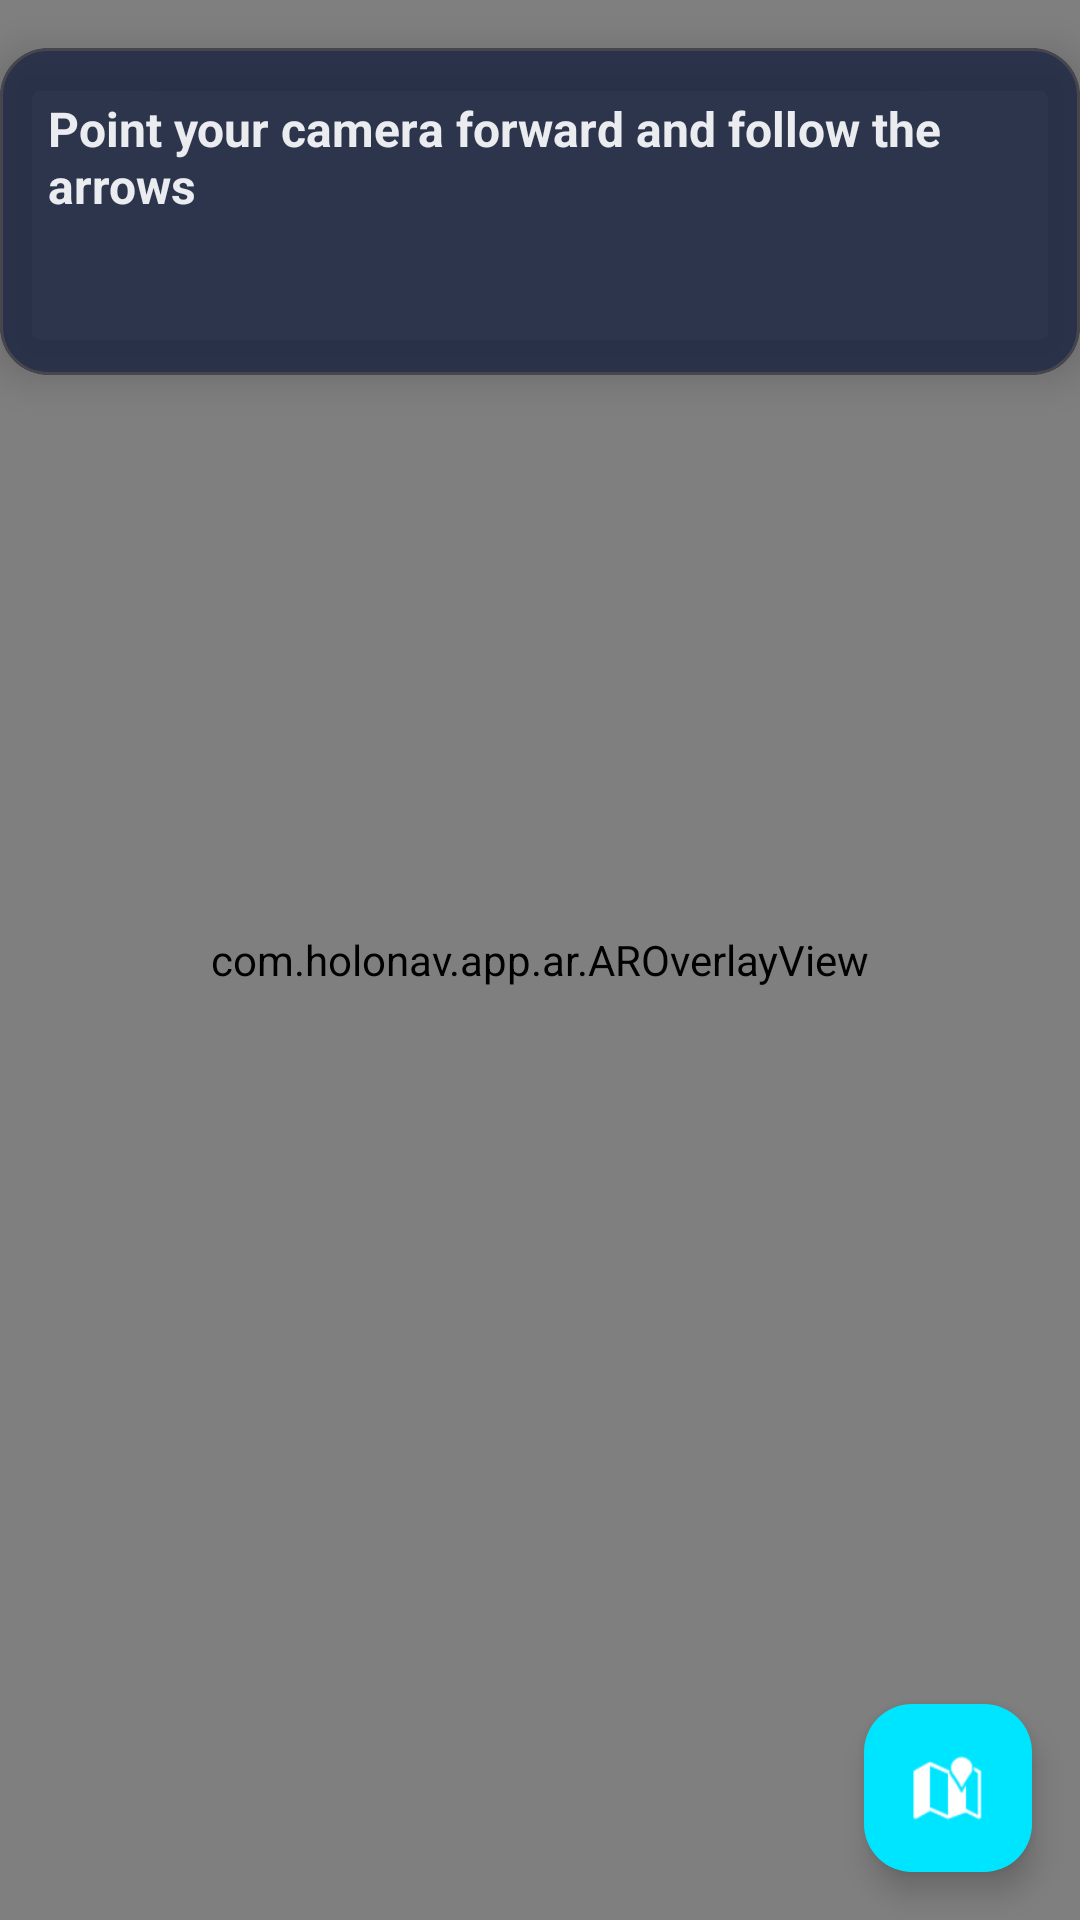

Named icons in this screenshot (1080 × 1920) and their bounding boxes, bbox=(x1, y1, x2, y2):
Switch to Map: bbox=(864, 1704, 1032, 1872)
